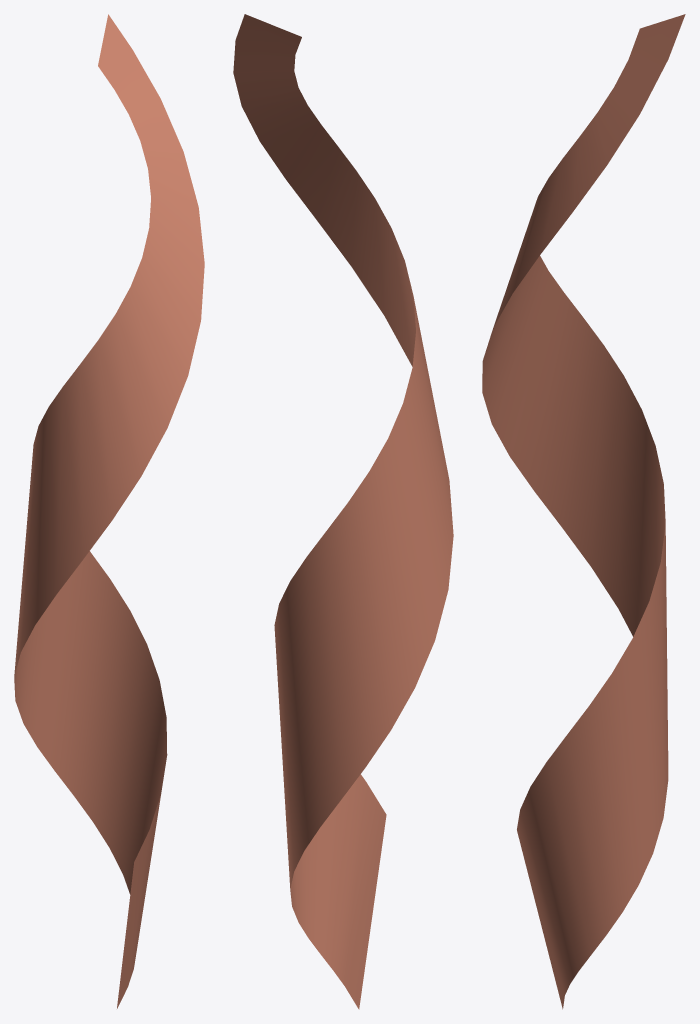
The model's file is spiral_tall.fbx.
3 views of the same model, side by side, from view 1: azimuth 30°, elevation 25°; view 2: azimuth 150°, elevation 25°; view 3: azimuth 270°, elevation 25° (orthographic). The views are drawn at different scales.
Parts seen in each view (by area): view 1: spiral_tall; view 2: spiral_tall; view 3: spiral_tall.
Boxes of the visible parts, x1,y1,x2,y2 form: spiral_tall: [14, 14, 204, 1008]; spiral_tall: [233, 14, 453, 1009]; spiral_tall: [482, 14, 685, 1009].
Bounding box in the file's own units: 49.66 × 263 × 47.48.
